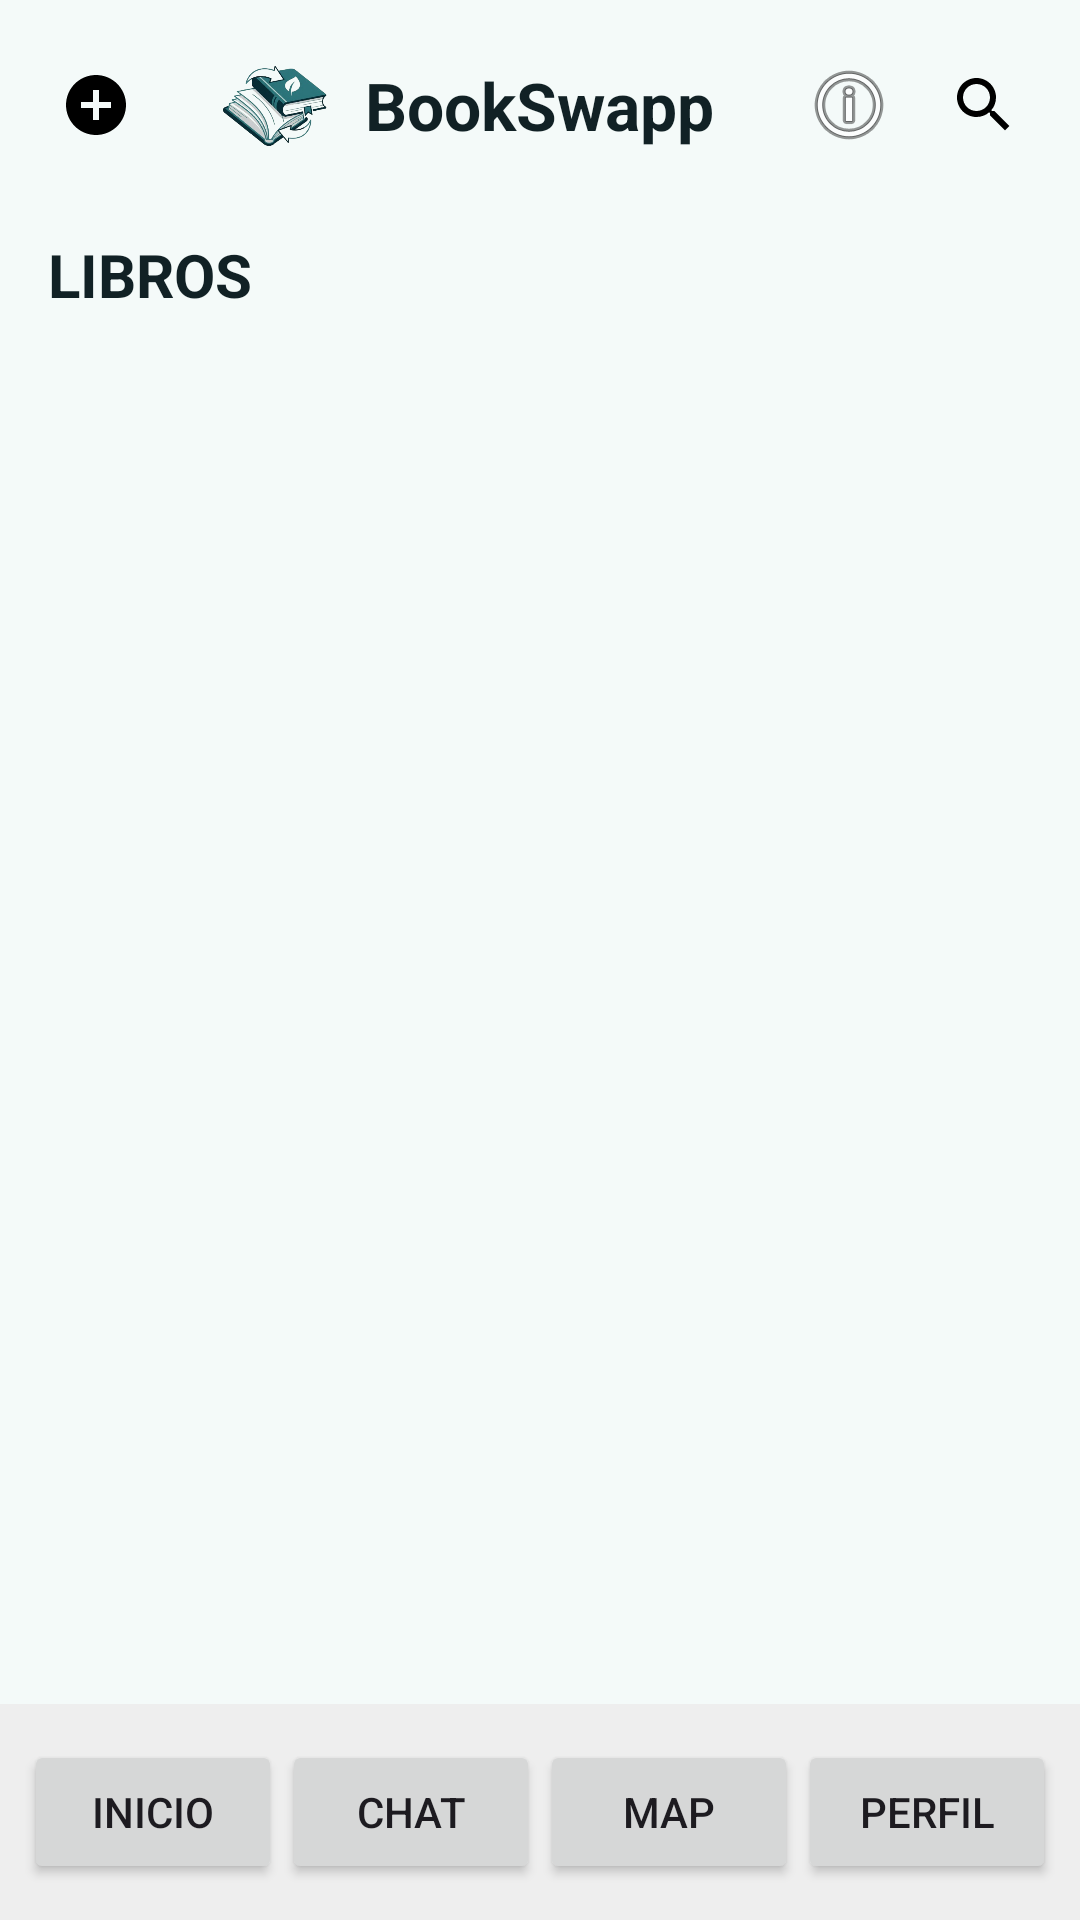

Locate icon controls on the screen. Image size 1080*1920, boxes as (x1, y1, x2, y2).
Publicar Libro: (66, 75, 126, 135)
